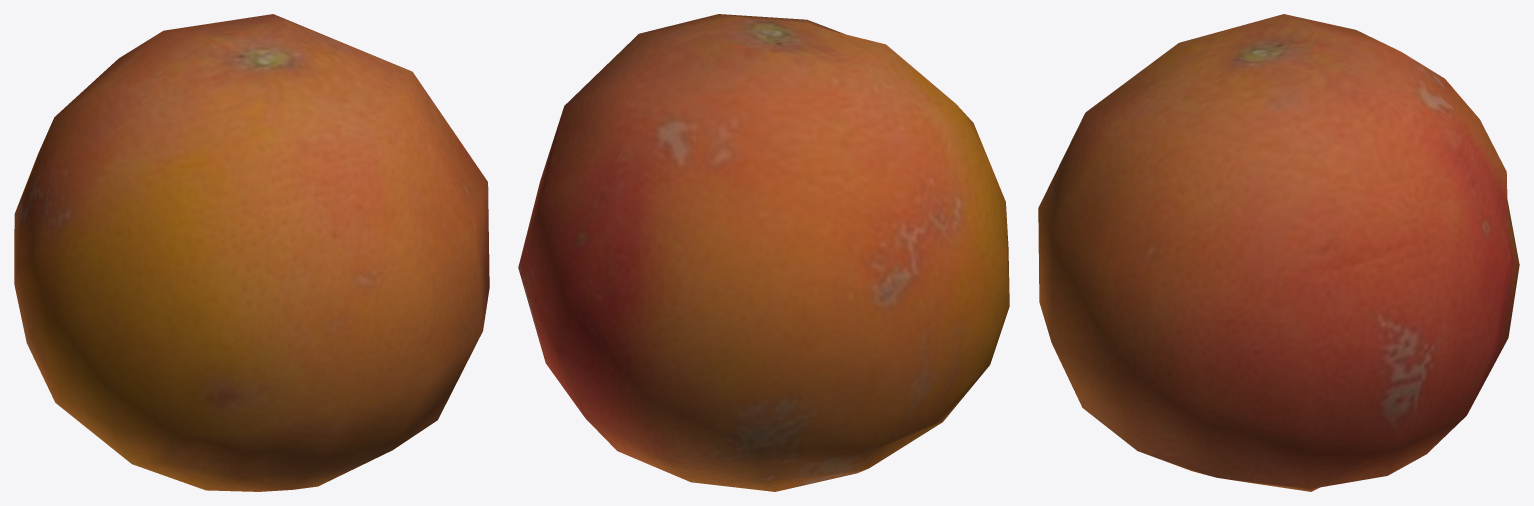
Rendered from A61_Orange_low.fbx.
The picture shows the model from 3 angles, left to right: view 1: azimuth 30°, elevation 25°; view 2: azimuth 150°, elevation 25°; view 3: azimuth 270°, elevation 25°; orthographic projection. The views are drawn at different scales.
Parts seen in each view (by area): view 1: A61_Orange_low; view 2: A61_Orange_low; view 3: A61_Orange_low.
Boxes of the visible parts, box(x1,y1,x2,y2) form: A61_Orange_low: box(14, 14, 489, 491); A61_Orange_low: box(518, 14, 1009, 491); A61_Orange_low: box(1038, 14, 1519, 491).
Size of the model in its own units: 9.77 by 9.73 by 9.17.
1 material, 1 textured.
